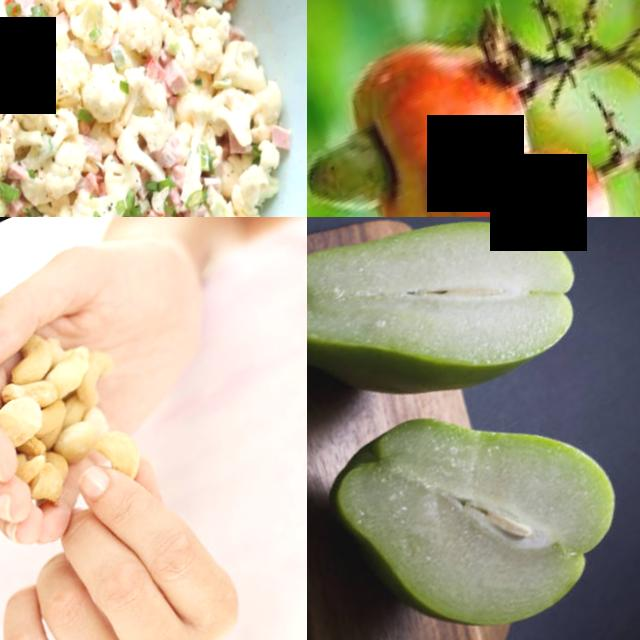cashew: (307, 91, 425, 217), (83, 406, 160, 487), (0, 390, 60, 454), (40, 350, 101, 410), (6, 332, 64, 390)
chayote: (307, 358, 640, 640), (307, 217, 640, 497)
